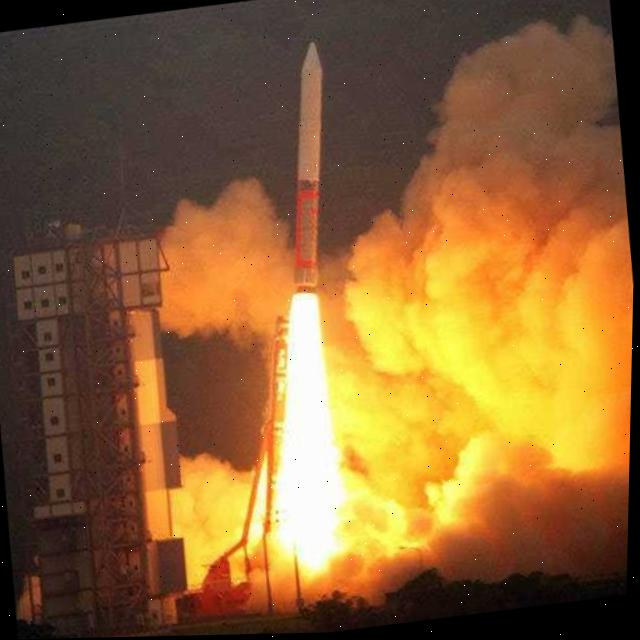missile: (263, 38, 352, 296)
